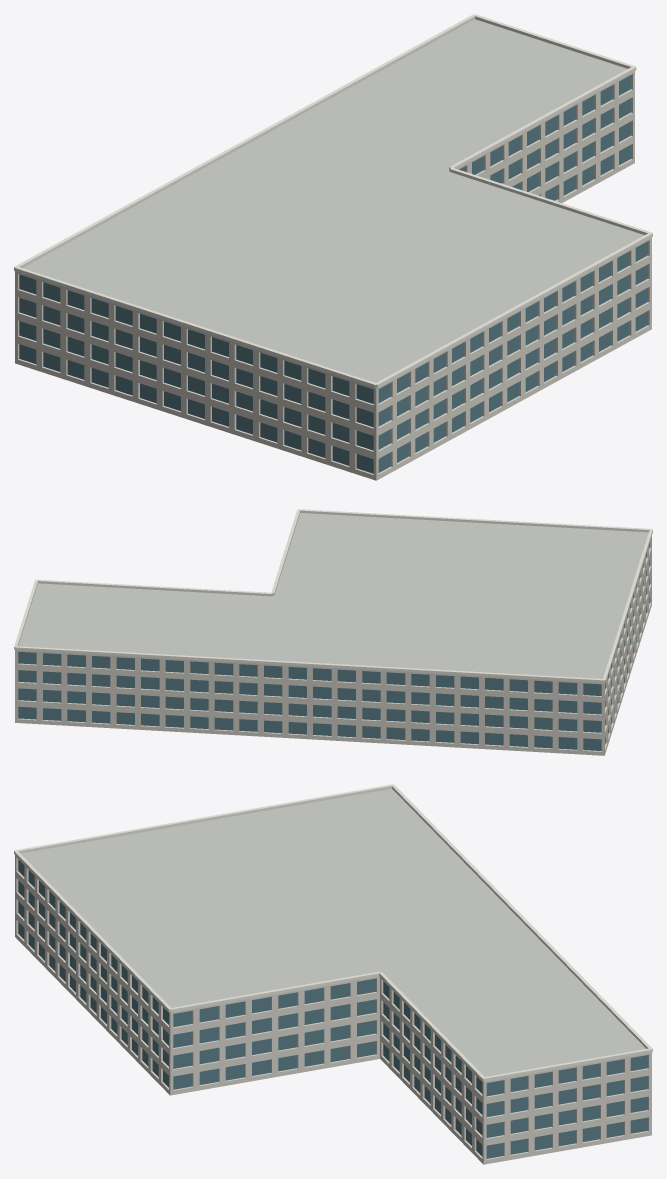
File: sb_586082990.far.glb
3 renders of one model, top to bottom at view 1: azimuth 30°, elevation 25°; view 2: azimuth 150°, elevation 25°; view 3: azimuth 270°, elevation 25°, orthographic. The views are drawn at different scales.
Parts seen in each view (by area): view 1: roof, wall, glass, trim; view 2: roof, wall, glass, trim; view 3: roof, wall, glass, trim.
Part boxes in pixels (x1,y1,x2,y2): roof: (22,19,644,382); wall: (15,71,651,480); glass: (19,75,647,473); trim: (14,14,652,388); roof: (18,513,648,678); wall: (15,536,651,755); glass: (18,543,649,750); trim: (14,509,652,682); roof: (21,788,645,1076); wall: (15,855,651,1164); glass: (18,859,648,1158); trim: (14,784,652,1081).
Size of the model in its own units: 95.42 by 13.04 by 87.45.
